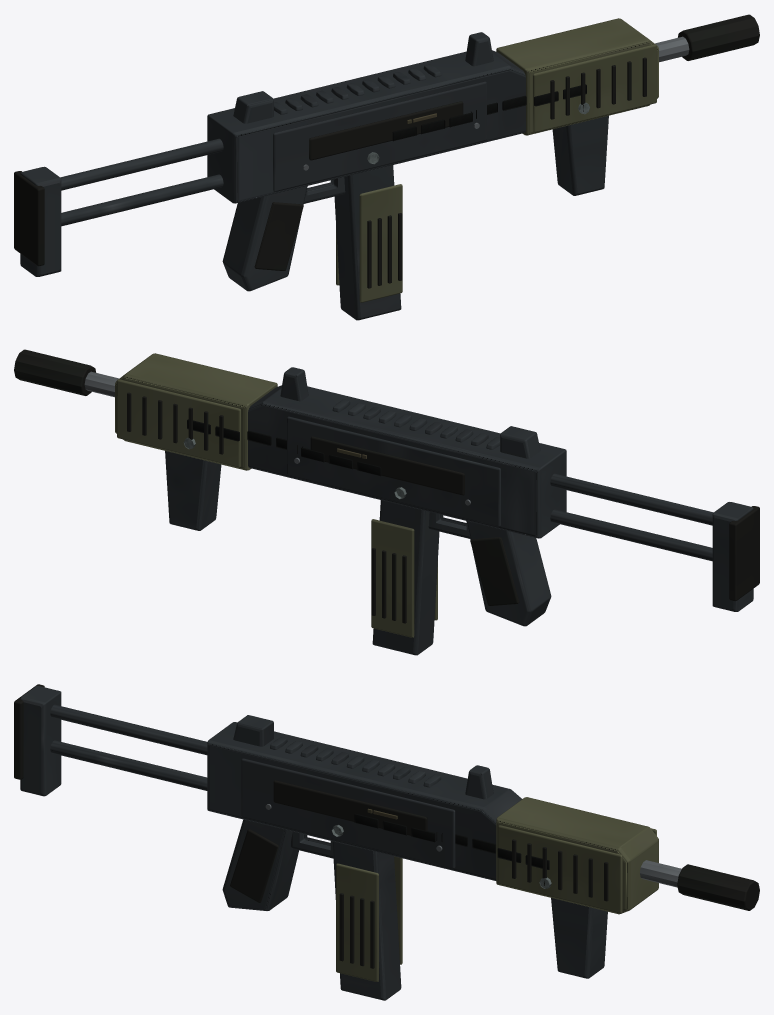
Rendered from smg.glb.
The picture shows the model from 3 angles, top to bottom: view 1: azimuth 30°, elevation 25°; view 2: azimuth 150°, elevation 25°; view 3: azimuth 330°, elevation 25°; orthographic projection.
Visible parts, largest first — view 1: smg_premium, hand | consolidated detail; view 2: smg_premium, hand | consolidated detail; view 3: smg_premium, hand | consolidated detail.
Part boxes in pixels (left/top/right/bottom): smg_premium: left=14, top=14, right=759, bottom=320; hand | consolidated detail: left=392, top=84, right=586, bottom=141; smg_premium: left=14, top=349, right=759, bottom=655; hand | consolidated detail: left=187, top=419, right=381, bottom=476; smg_premium: left=14, top=684, right=759, bottom=1000; hand | consolidated detail: left=354, top=813, right=549, bottom=869.
Bounding box in the file's own units: 0.8515 × 0.277 × 0.0823.
7 materials, 7 textured.
